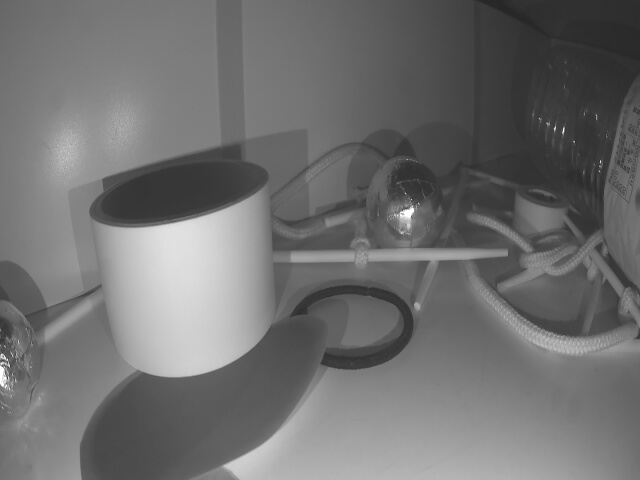Live: (363, 157, 445, 249), (0, 296, 41, 436)
